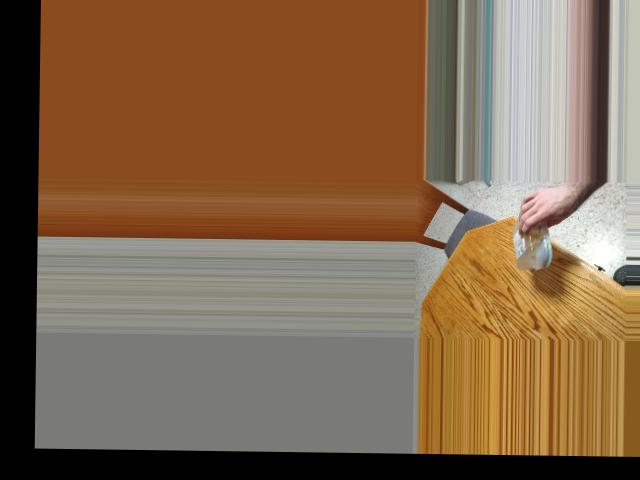cheese: (508, 202, 558, 261)
